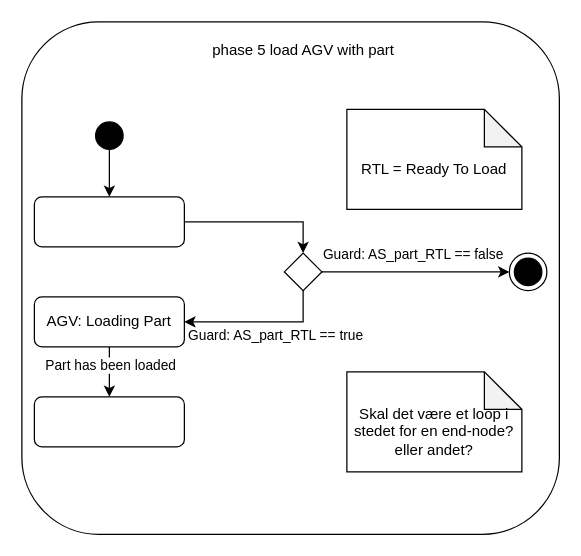
This 581x556 diagram has some shape labels left out. The shapes that lost their labels are listed below. From the top down, each one's centre as x and y in pixels, then its label:
At point 108,221: "AGV: Empty/Waiting".
At point 108,421: "AGV: Loaded/Waiting".
